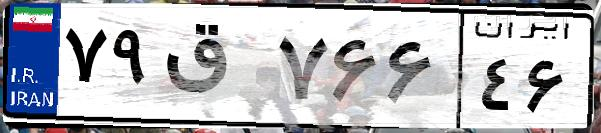4: (475, 38, 525, 113)
6: (385, 28, 445, 110), (330, 28, 385, 110), (525, 38, 570, 115)
7: (270, 28, 330, 110), (57, 26, 110, 100)
9: (110, 28, 158, 98)
ق: (158, 20, 270, 120)
